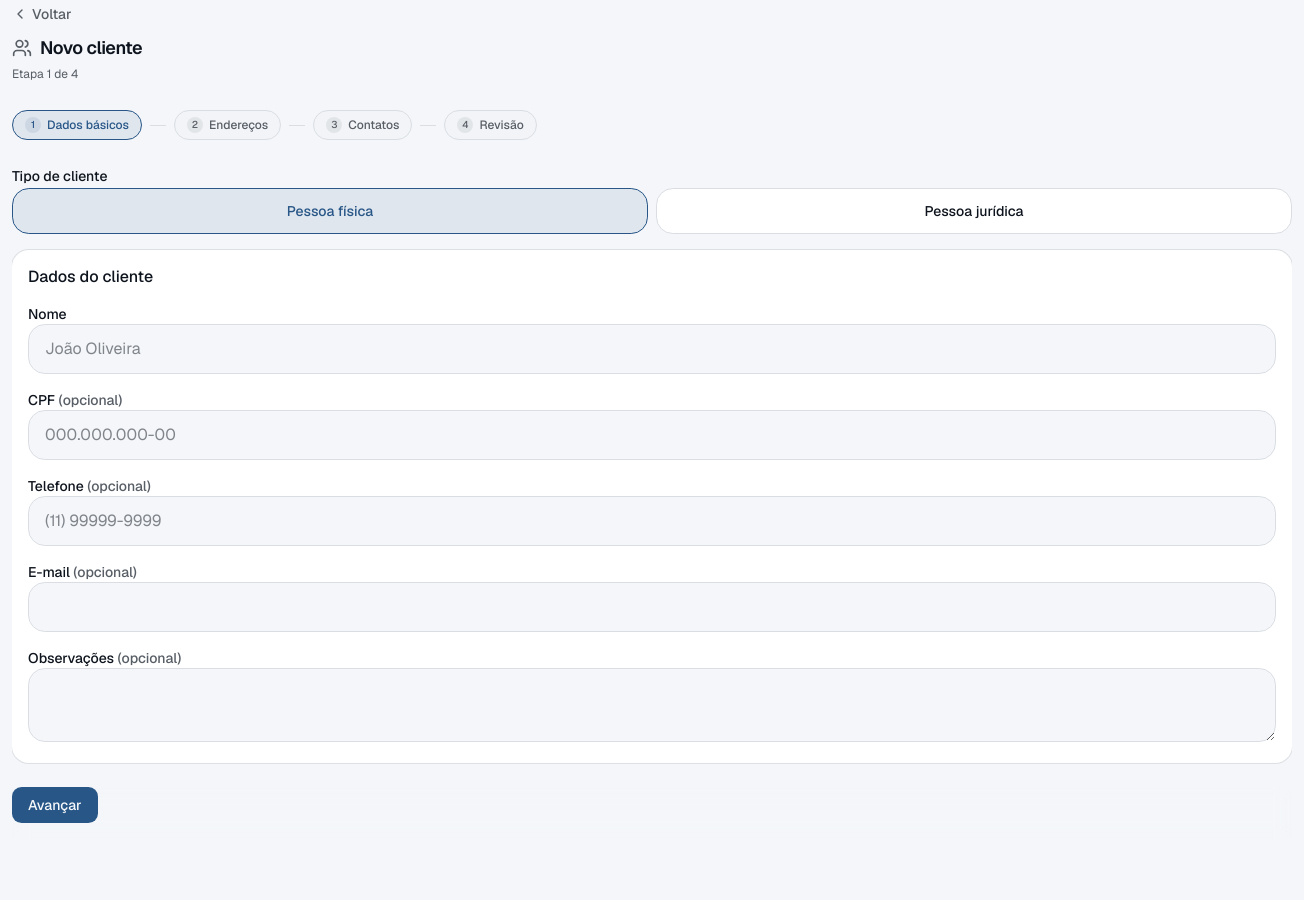
Test: CustomerCreateForm (4-step wizard) › step flow › advances to step 2 once name is filled
The width and height of the screenshot is (1304, 900).
Type "Maria Cliente" into the field labelled "Nome" at (652, 349), box [28,324,1276,374]
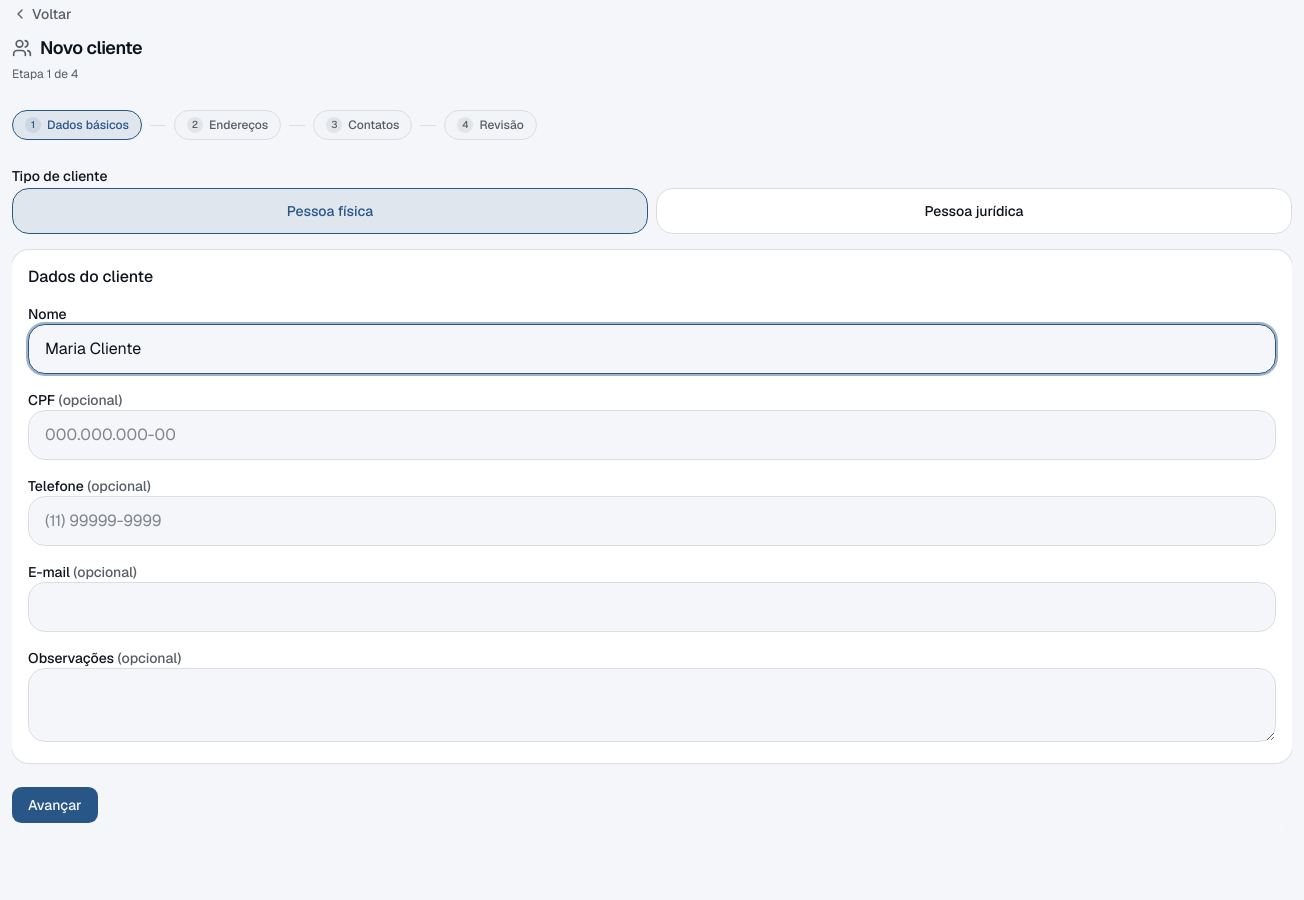
Click the button "Avançar" at (55, 805), box [12,787,98,823]
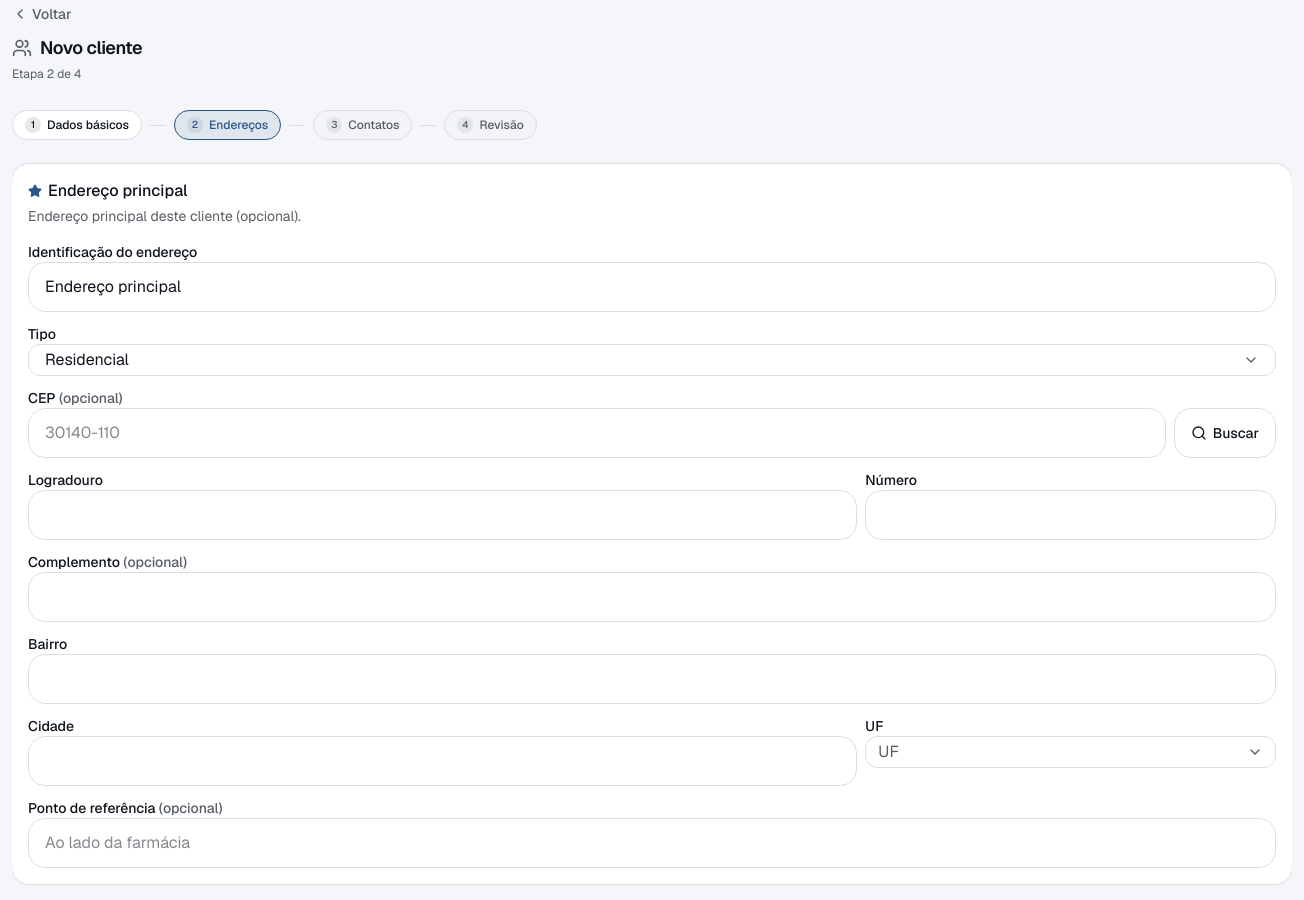
Expected: the text "Etapa 2 de 4" is shown, [12,66,81,82]
Expected: the text "Endereço principal" is shown, [28,180,188,201]
